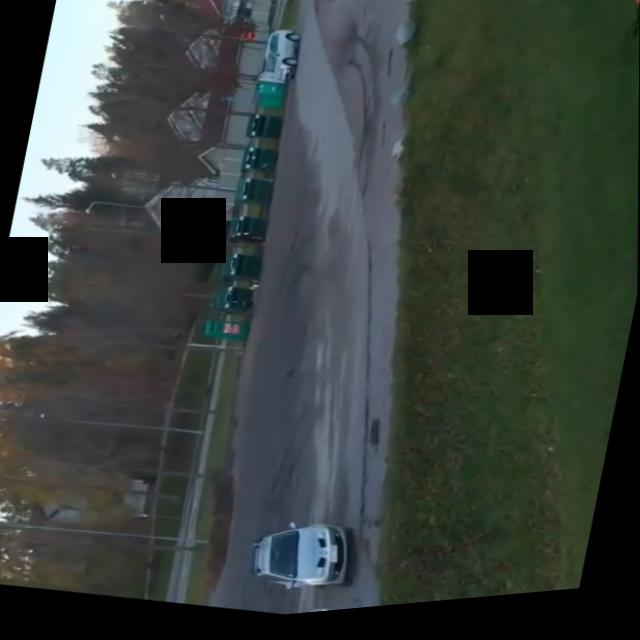Vehicle: (244, 510, 363, 613), (254, 27, 306, 94)
